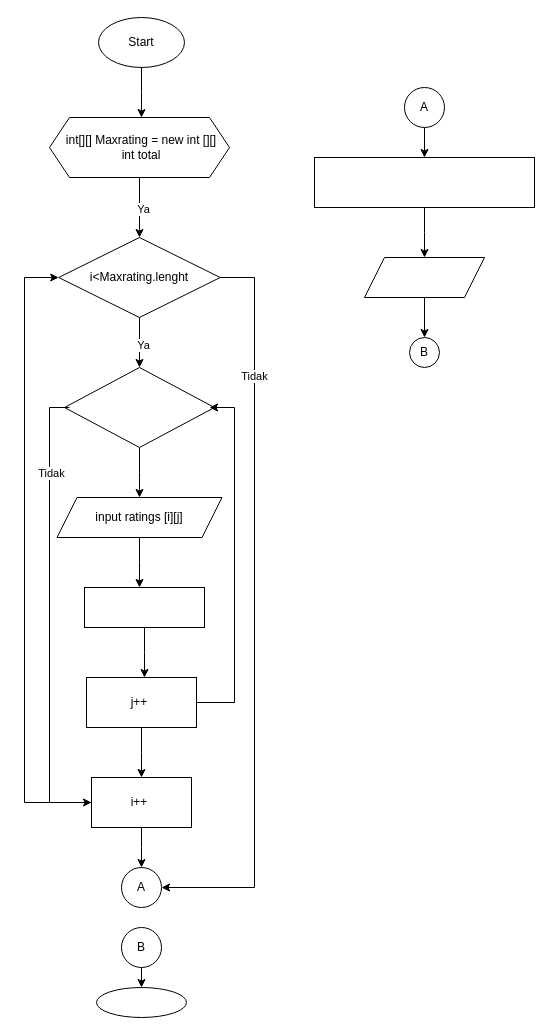
This 552x1035 diagram has some shape labels left out. The box of each missing label's shape, as (x1, y1, x2, y2) in pixels:
End: (96, 986, 186, 1018)
j<Maxrating [0].length: (64, 366, 214, 448)
Output: (364, 256, 484, 298)
total Maxrating/ratings.length*ratings[0].length: (314, 156, 534, 208)
total+= rating: (84, 586, 204, 628)
